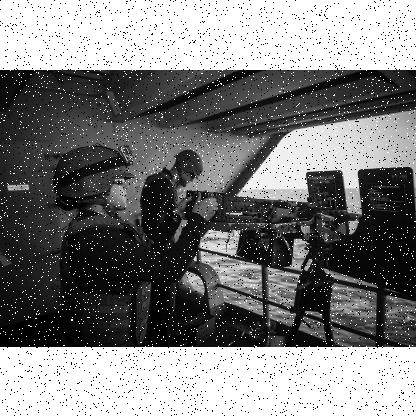gun: (186, 191, 362, 343)
